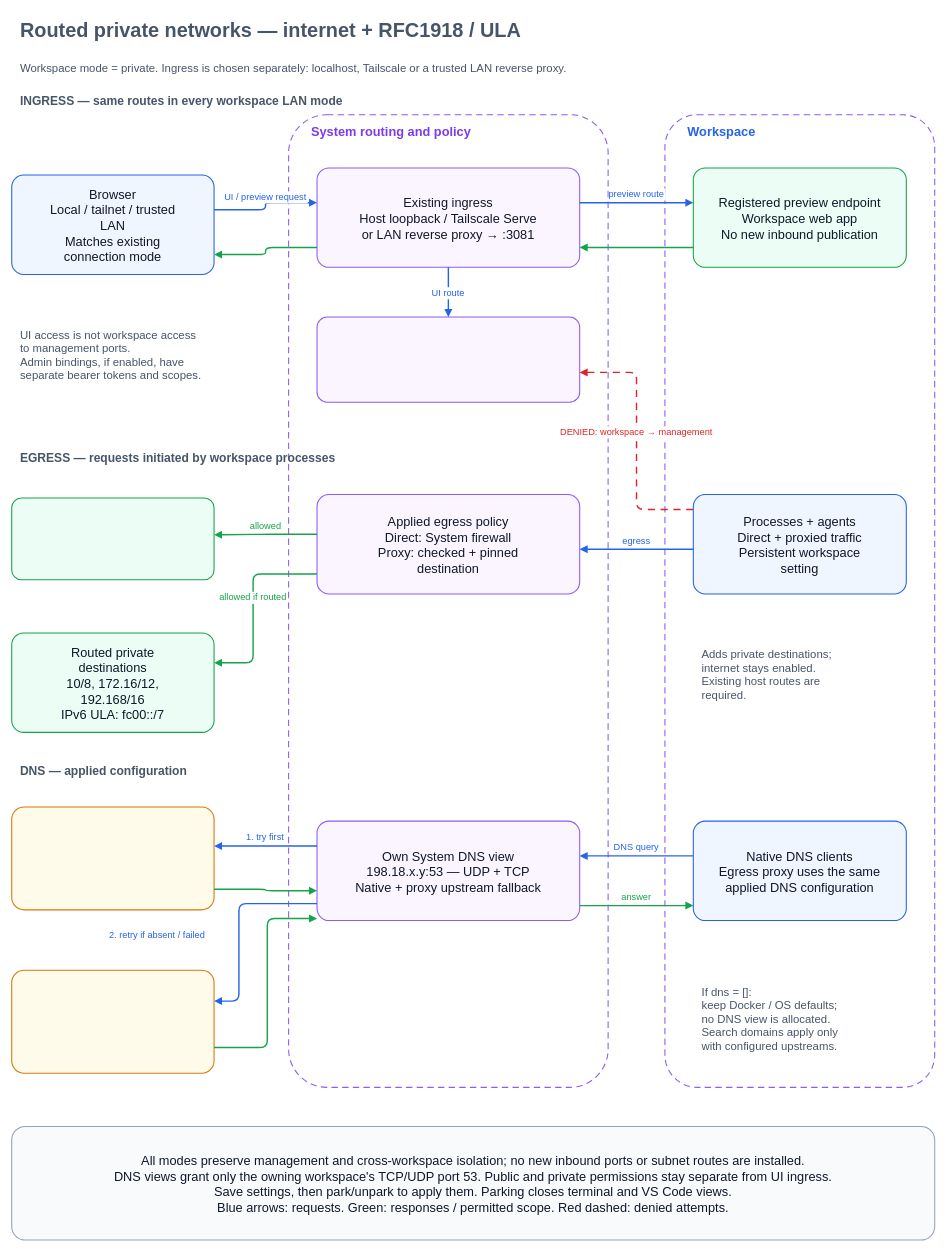
This 946x1252 diagram has some shape labels left out. The shapes that lost their labels are listed below. From the top down, each one's centre as x and y in pixels, then its label:
the point at 448,359: UI / management origin Trusted browser access Separate from preview origins
the point at 112,538: Public internet Enabled in all three modes
the point at 112,858: Upstream 1 LAN DNS / external mDNS bridge Example: 192.168.10.53
the point at 112,1021: Upstream 2 (optional 3) Trusted secondary / public DNS Example: 1.1.1.1
